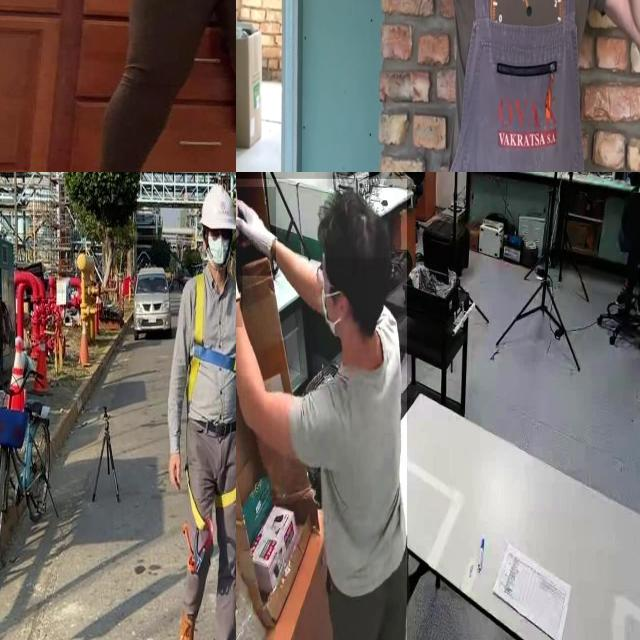Harness: (187, 273, 236, 402)
hand_glove: (236, 186, 276, 275)
head_nohelmet: (322, 187, 392, 259)
person: (236, 178, 407, 640), (52, 0, 236, 172)
